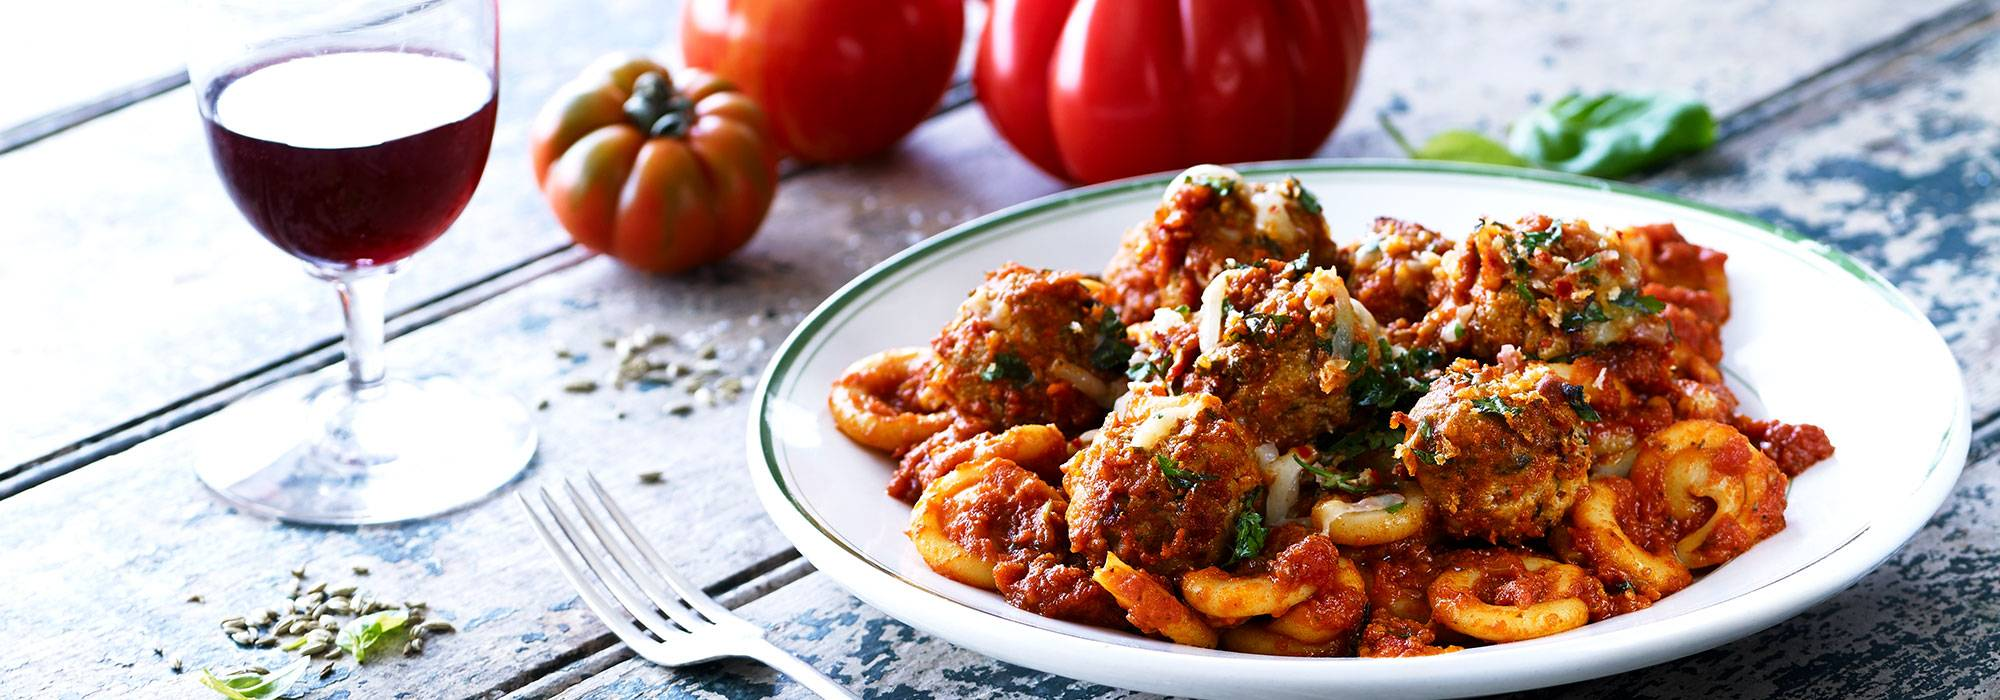meatballs: (1065, 394, 1261, 566), (1399, 368, 1587, 529), (1195, 261, 1364, 425), (1446, 208, 1619, 351), (954, 273, 1116, 411), (1165, 167, 1329, 282)
